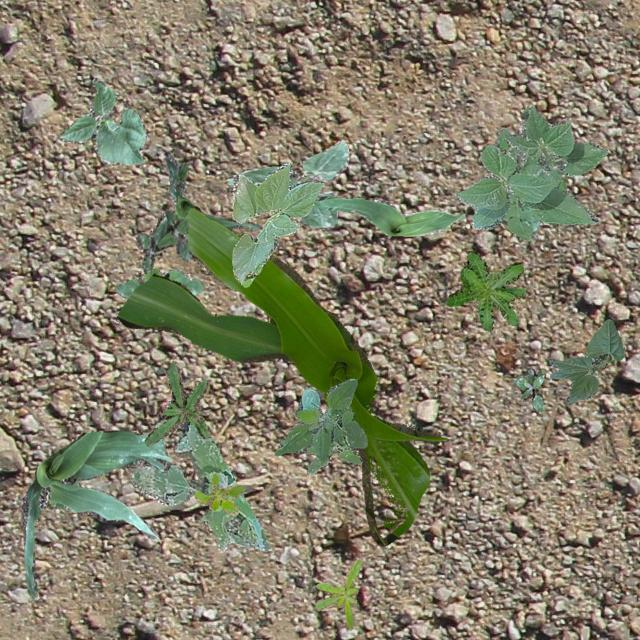crop: (117, 205, 446, 546), (21, 428, 170, 598), (452, 104, 606, 228), (232, 162, 324, 286), (225, 140, 348, 230), (58, 78, 146, 164), (163, 150, 260, 228), (274, 378, 366, 460), (548, 317, 624, 403), (312, 196, 463, 234)
weed: (130, 418, 270, 550), (492, 127, 566, 240), (444, 250, 524, 330), (143, 360, 210, 444), (136, 210, 190, 272), (314, 558, 360, 628), (112, 268, 202, 298), (194, 472, 244, 514), (306, 440, 360, 474), (512, 368, 544, 412)
